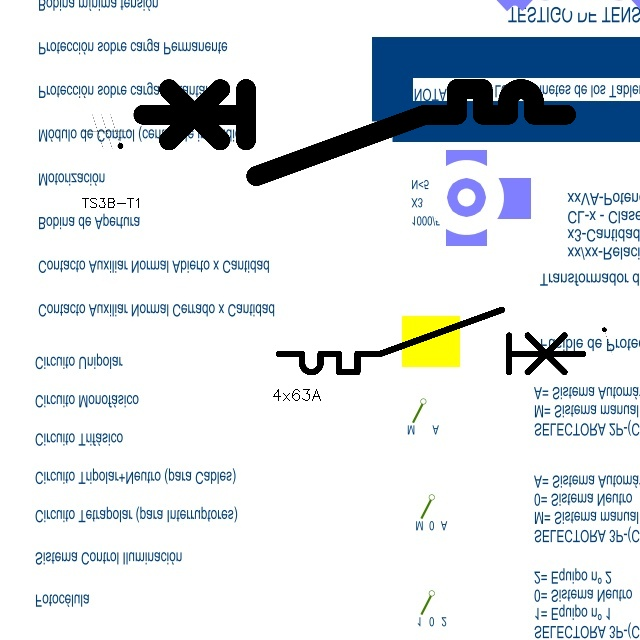interruptor_termomagnetico: (132, 78, 577, 187), (271, 302, 590, 380)
